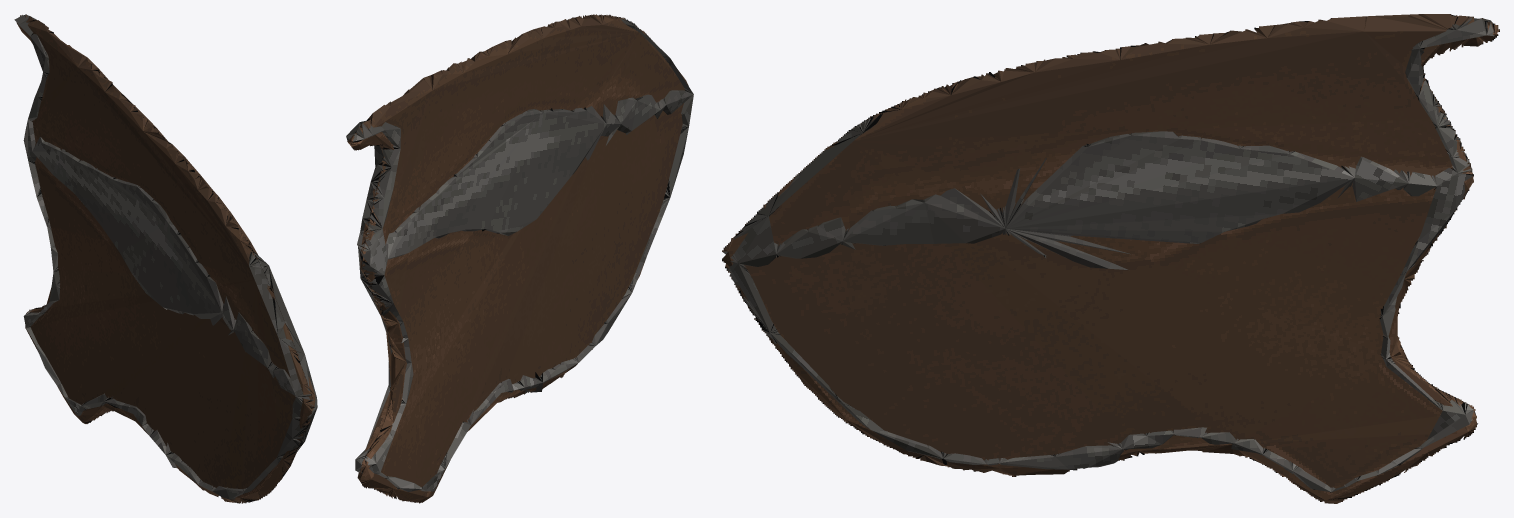
File: kite-shield.glb
3 views of the same model, side by side, from view 1: azimuth 30°, elevation 25°; view 2: azimuth 150°, elevation 25°; view 3: azimuth 270°, elevation 25° (orthographic). The views are drawn at different scales.
Visible parts, largest first — view 1: face, plate; view 2: face, plate; view 3: face, plate.
Boxes of the visible parts, <box> form: face: <box>17,14,315,503</box>; plate: <box>14,14,317,499</box>; face: <box>347,14,688,503</box>; plate: <box>346,18,693,491</box>; face: <box>722,14,1499,503</box>; plate: <box>722,16,1494,492</box>.
Size of the model in its own units: 0.0402 by 0.6568 by 0.9463.
2 materials, 2 textured.
